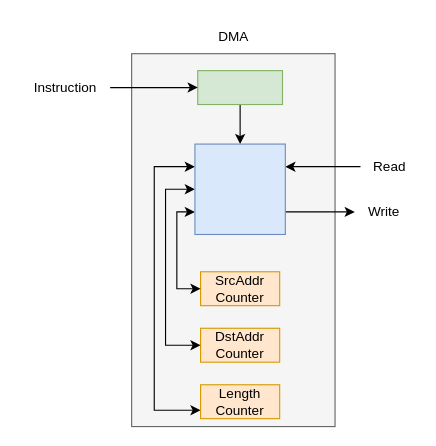
The diagram is 436 pixels wide and 446 high, and some of its shapes have lost their labels. Each missing label, with the centre of its shape:
"Control logic" goes at (239,188).
"Descriptor" goes at (239,87).
